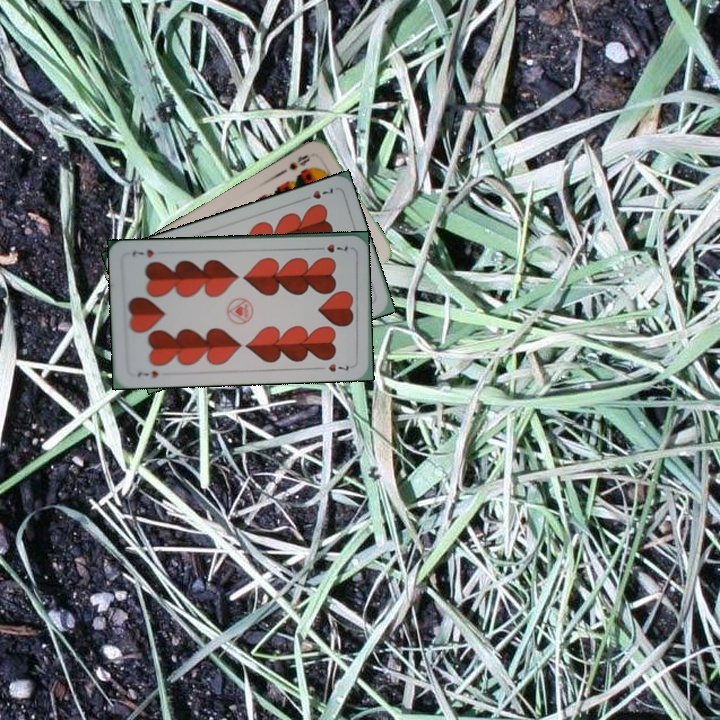H7: (298, 181, 336, 204), (312, 240, 350, 255), (133, 366, 161, 381)
S8: (285, 150, 313, 173)
